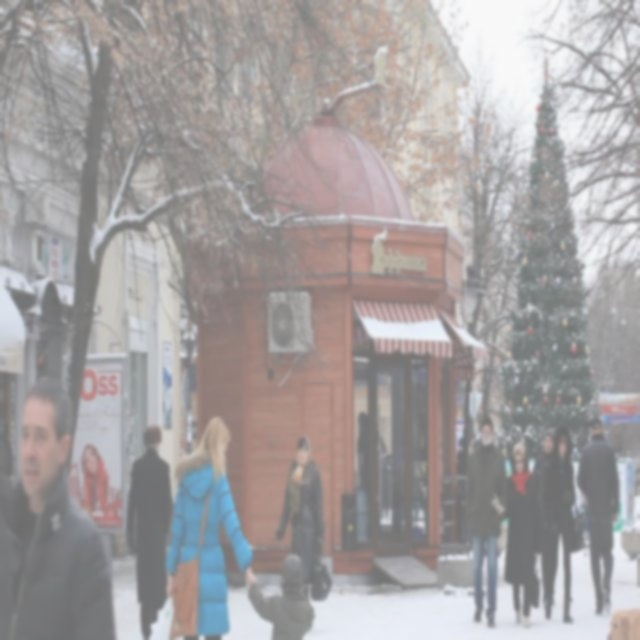pessoa: (7, 376, 116, 639), (164, 412, 258, 639), (274, 430, 333, 626), (123, 421, 174, 639), (493, 437, 546, 631), (464, 410, 507, 632), (575, 413, 621, 619), (542, 423, 588, 624), (244, 550, 316, 638), (530, 426, 556, 610), (74, 444, 120, 514), (456, 433, 471, 538), (377, 443, 395, 521), (356, 411, 368, 494), (412, 498, 419, 528)
